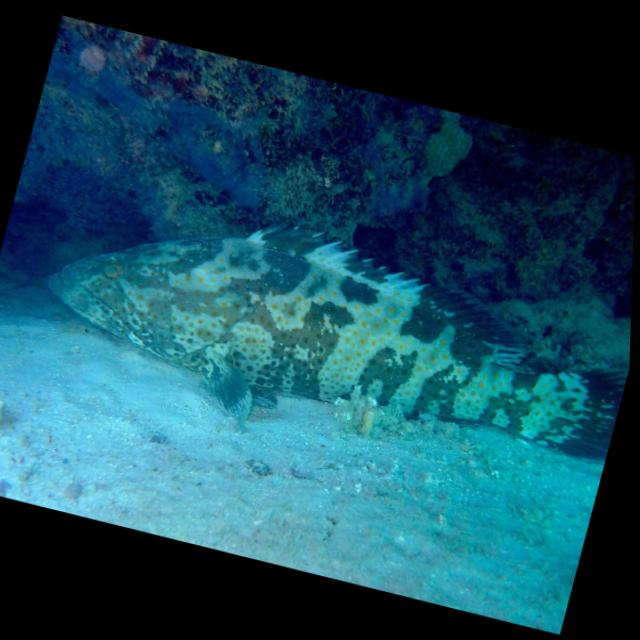Groupers: (18, 168, 635, 498)
